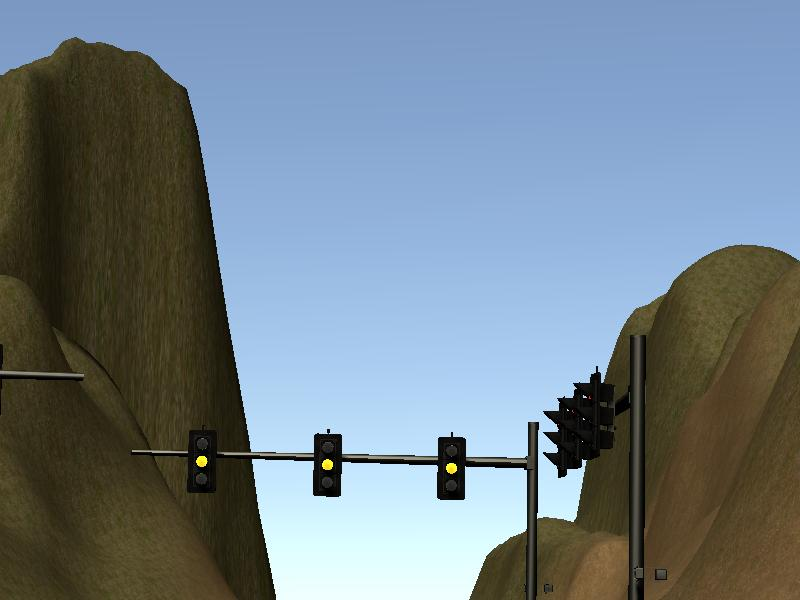Yellow: (310, 431, 344, 499), (188, 429, 216, 493), (439, 435, 466, 500)
